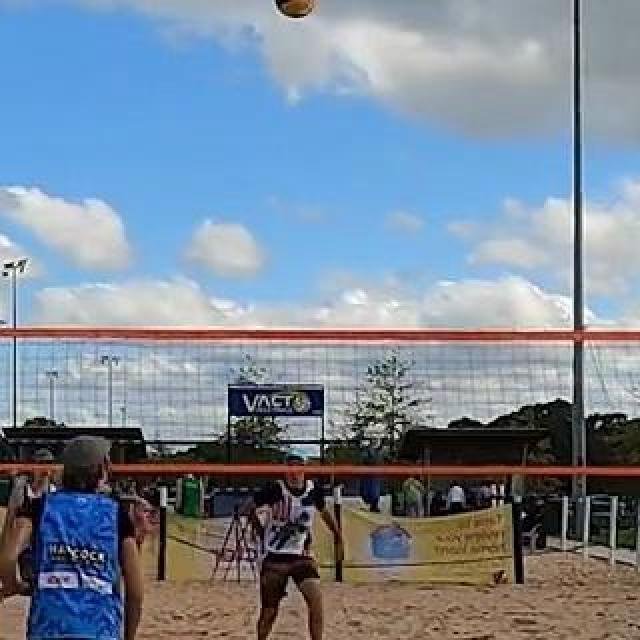volleyball: (274, 0, 320, 18), (494, 568, 508, 586)
